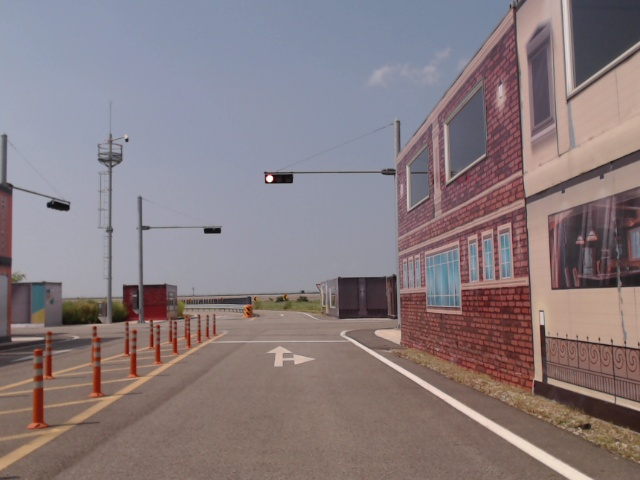red_3: (266, 173, 293, 183)
